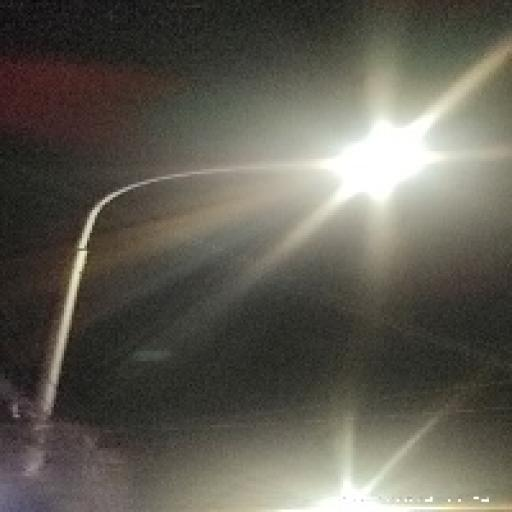Working: (310, 111, 448, 208)
